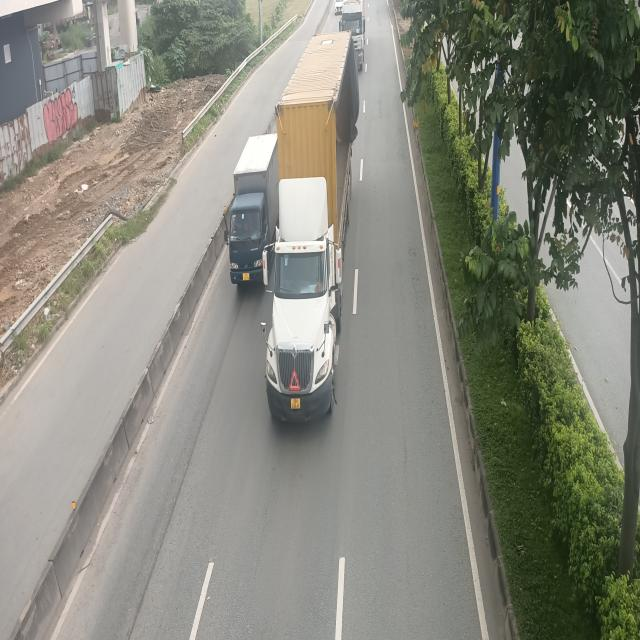container: (262, 29, 356, 415)
truck: (224, 134, 279, 290)
